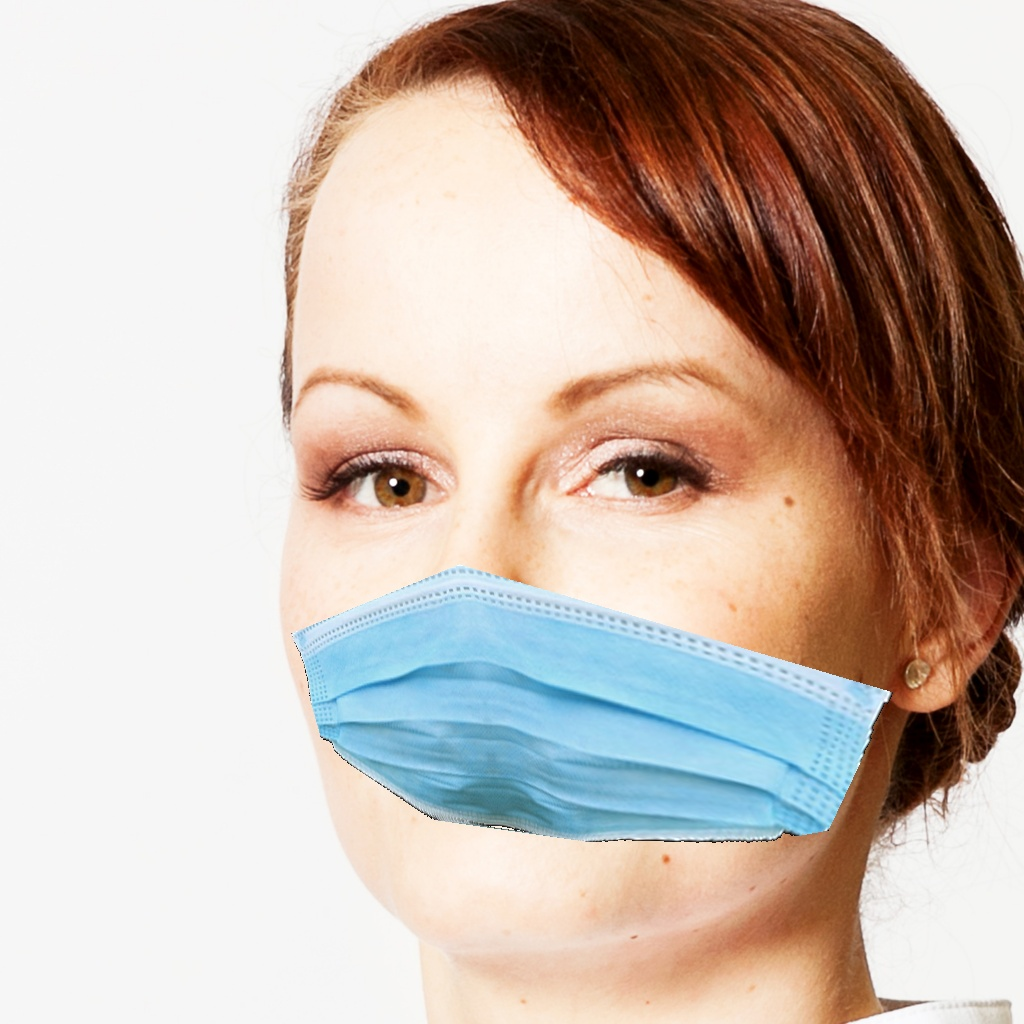mascarilla_mal_puesta: (257, 340, 862, 980)
